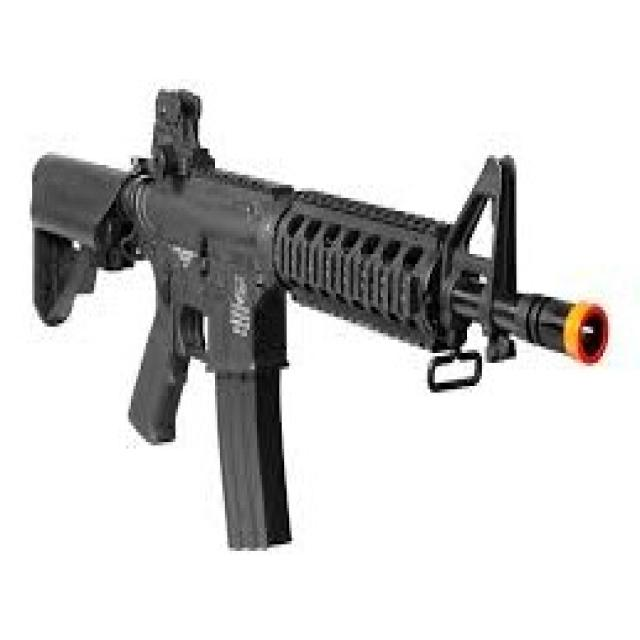rifle: (21, 82, 615, 556)
